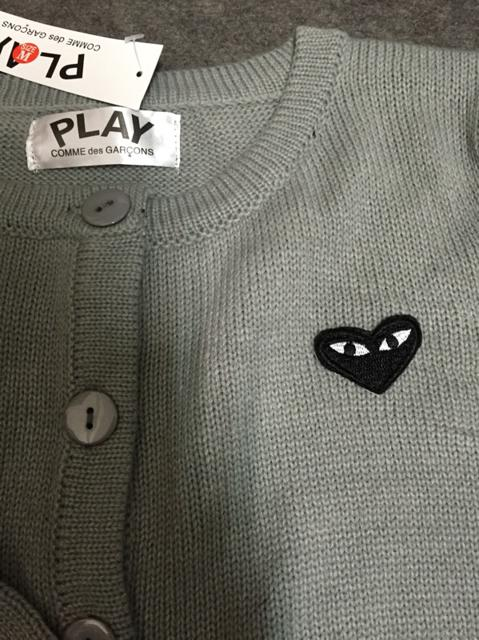Tops: (2, 28, 474, 640)
